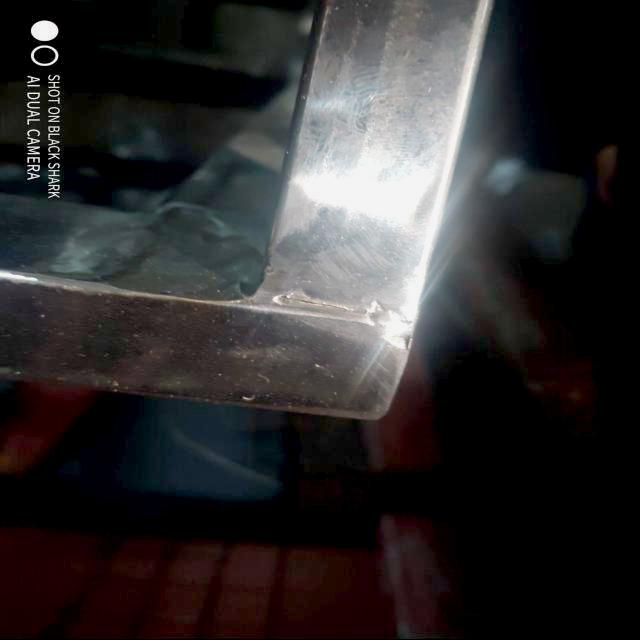defect: (276, 295, 369, 316)
